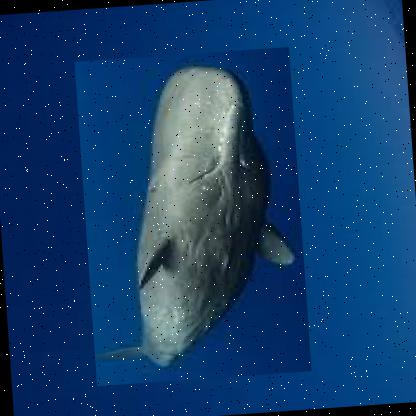sperm_whale: (74, 46, 312, 386)
